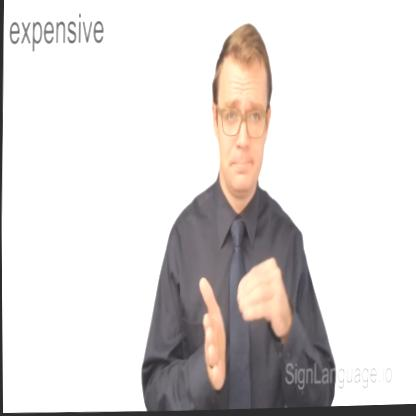Expensive: (188, 247, 291, 399)
